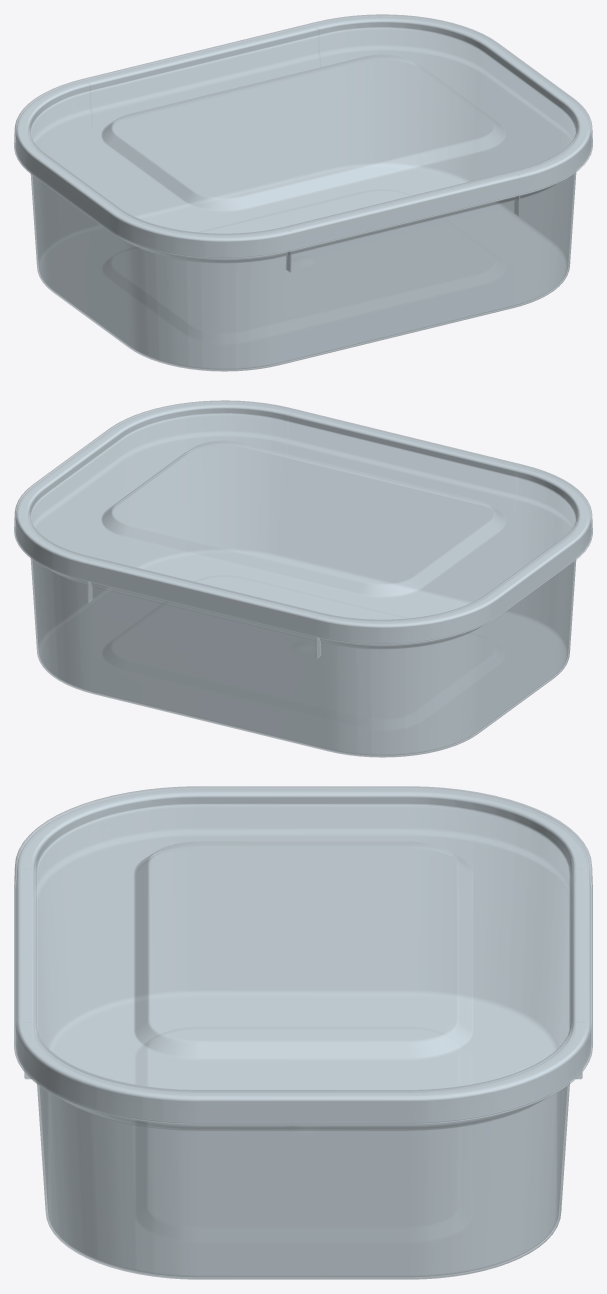
Rendered from tupperlink-1500ml.glb.
3 renders of one model, top to bottom at view 1: azimuth 30°, elevation 25°; view 2: azimuth 150°, elevation 25°; view 3: azimuth 270°, elevation 25°, orthographic. The views are drawn at different scales.
Visible parts, largest first — view 1: base, tampa; view 2: base, tampa; view 3: base, tampa.
Boxes of the visible parts, bbox=[...] form: base: bbox=[15, 17, 591, 371]; tampa: bbox=[14, 14, 592, 258]; base: bbox=[15, 403, 591, 757]; tampa: bbox=[14, 400, 592, 644]; base: bbox=[16, 789, 590, 1279]; tampa: bbox=[14, 786, 592, 1124].
Size of the model in its own units: 0.2139 by 0.0627 by 0.1669.
